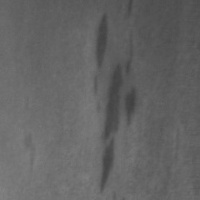inclusion: (88, 9, 140, 195), (88, 4, 115, 75), (18, 129, 39, 172), (121, 84, 141, 129)
